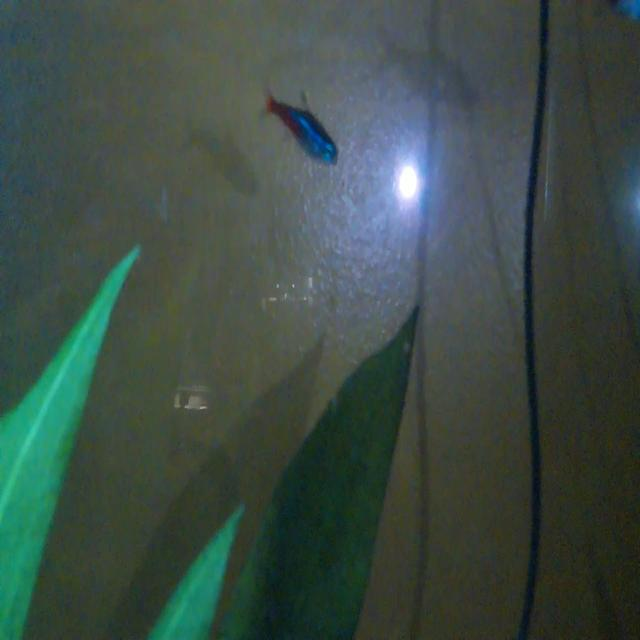fish: (259, 74, 351, 178)
